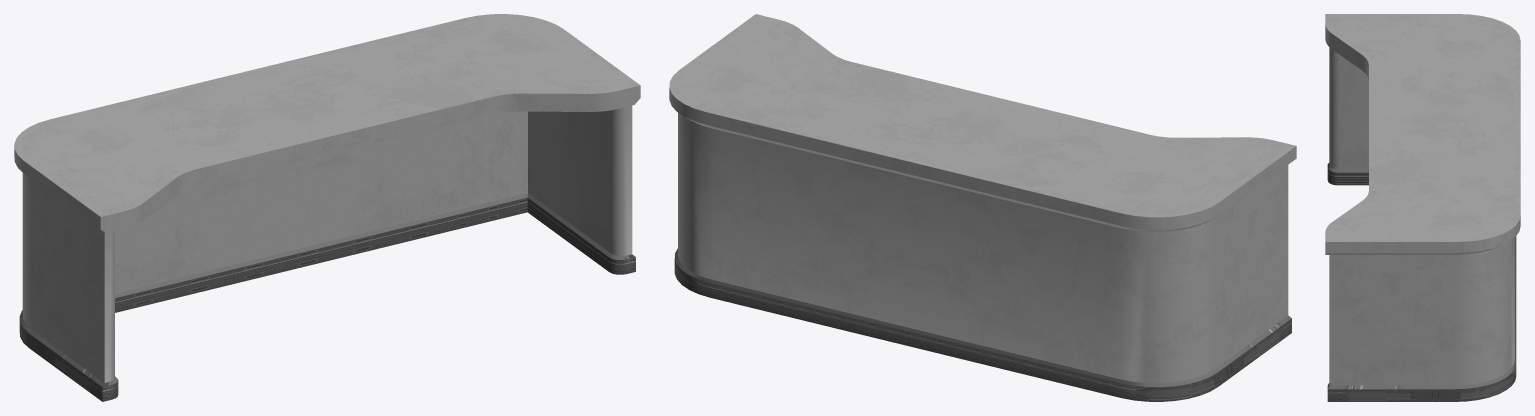
Rendered from Prop_Desk_Medium.gltf.
The picture shows the model from 3 angles, left to right: view 1: azimuth 30°, elevation 25°; view 2: azimuth 150°, elevation 25°; view 3: azimuth 270°, elevation 25°; orthographic projection. The views are drawn at different scales.
Parts seen in each view (by area): view 1: Prop_Desk_Medium; view 2: Prop_Desk_Medium; view 3: Prop_Desk_Medium.
Boxes of the visible parts, box(x1,y1,x2,y2) form: Prop_Desk_Medium: box(14, 14, 640, 401); Prop_Desk_Medium: box(669, 14, 1296, 401); Prop_Desk_Medium: box(1325, 14, 1520, 401).
Size of the model in its own units: 2.84 by 0.9396 by 1.03.
Materials: 3 (3 with a texture image).
